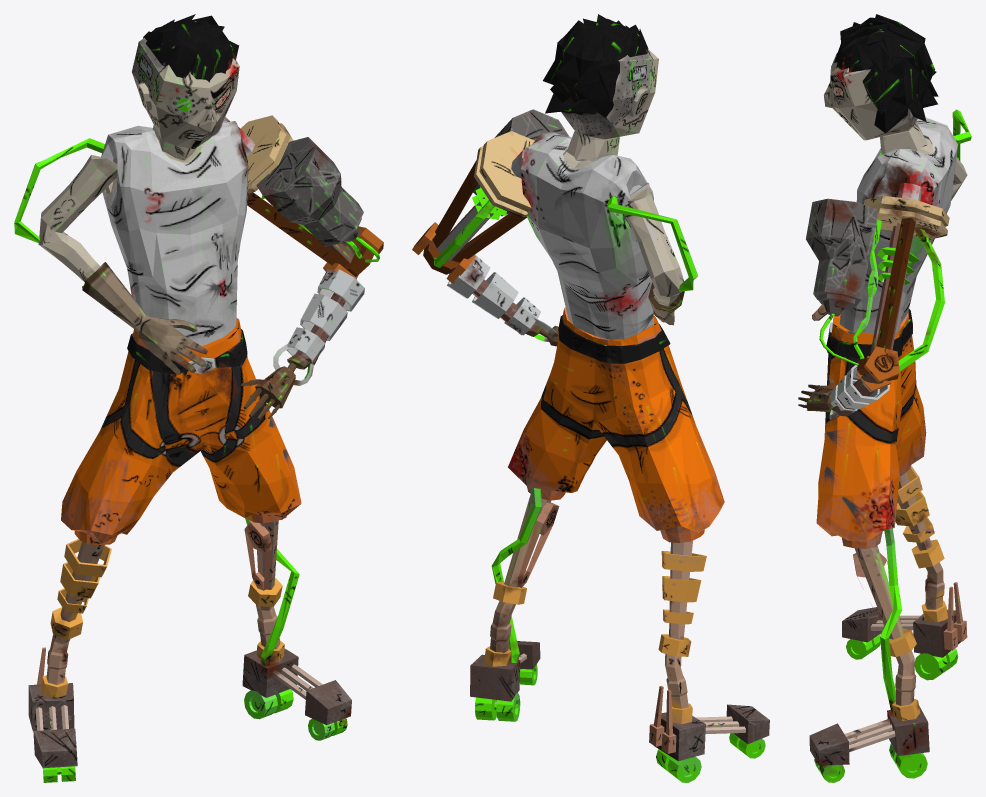
The model's file is CyborgFINALAnimation_000058.obj.
The picture shows the model from 3 angles, left to right: view 1: azimuth 30°, elevation 25°; view 2: azimuth 150°, elevation 25°; view 3: azimuth 270°, elevation 25°; orthographic projection. The views are drawn at different scales.
Visible parts, largest first — view 1: CyborgMesh_Cube.002; view 2: CyborgMesh_Cube.002; view 3: CyborgMesh_Cube.002.
Boxes of the visible parts, x1,y1,x2,y2 form: CyborgMesh_Cube.002: (14, 14, 383, 782); CyborgMesh_Cube.002: (412, 14, 769, 782); CyborgMesh_Cube.002: (798, 14, 971, 782).
Size of the model in its own units: 4.85 by 9.59 by 2.14.
